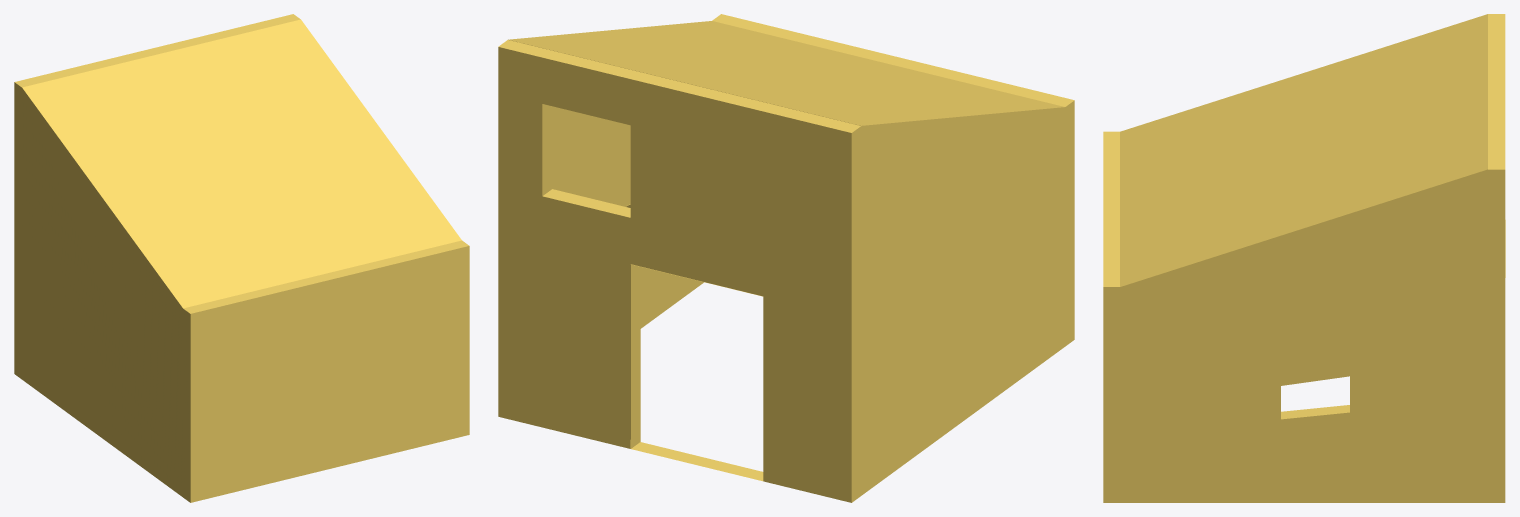
Rendered from house  two windows.fbx.
The picture shows the model from 3 angles, left to right: view 1: azimuth 30°, elevation 25°; view 2: azimuth 150°, elevation 25°; view 3: azimuth 270°, elevation 25°; orthographic projection. The views are drawn at different scales.
Visible parts, largest first — view 1: Plane.001; view 2: Plane.001; view 3: Plane.001.
Boxes of the visible parts, x1,y1,x2,y2 form: Plane.001: [14, 14, 469, 502]; Plane.001: [498, 14, 1074, 502]; Plane.001: [1103, 14, 1505, 502].
Bounding box in the file's own units: 870 × 870 × 952.
